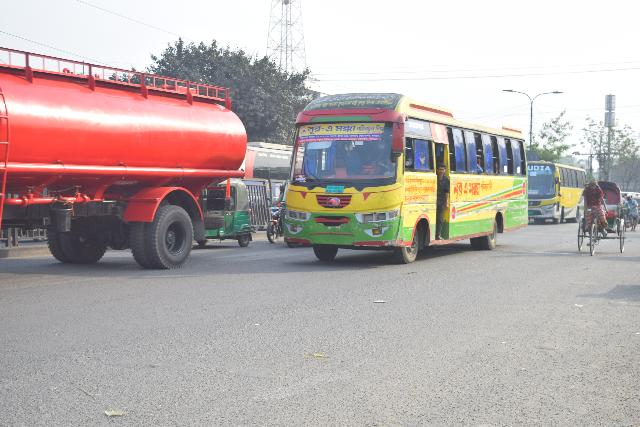bus: (278, 85, 532, 260), (527, 156, 586, 220)
motorcycle: (255, 181, 286, 254)
truck: (0, 49, 252, 271)
